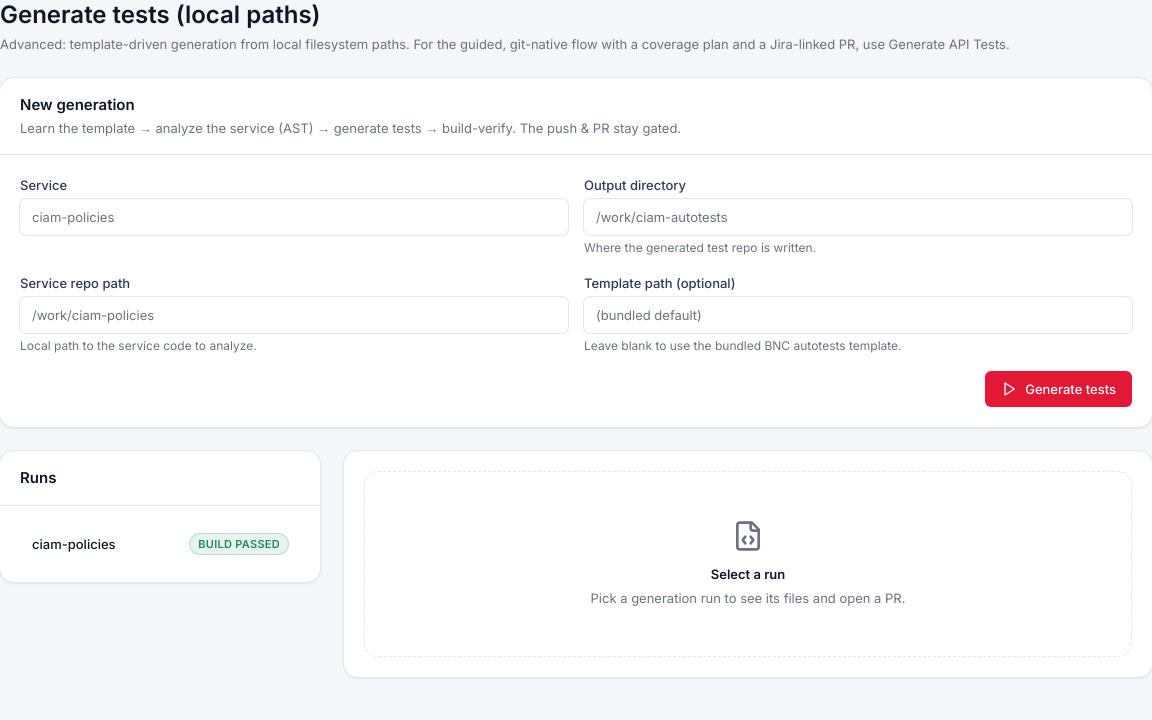
Test: Codegen — Generate tests workspace › opens a run detail with its files, template and TODOs when selected
Click the text "ciam-policies" at (74,544), box [32,534,116,554]
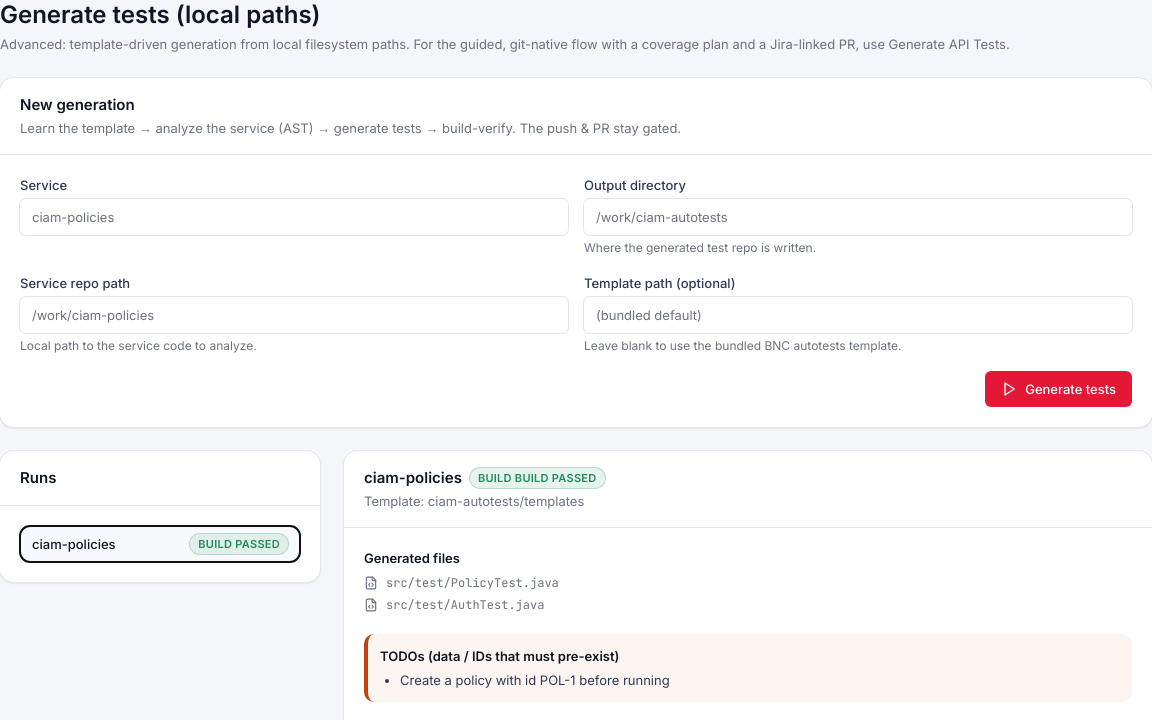
Now the text "Generated files" is shown, box [364,550,460,566]
Now the list item "src/test/PolicyTest.java" is shown, box [364,575,559,591]
Now the list item "src/test/AuthTest.java" is shown, box [364,597,544,613]
